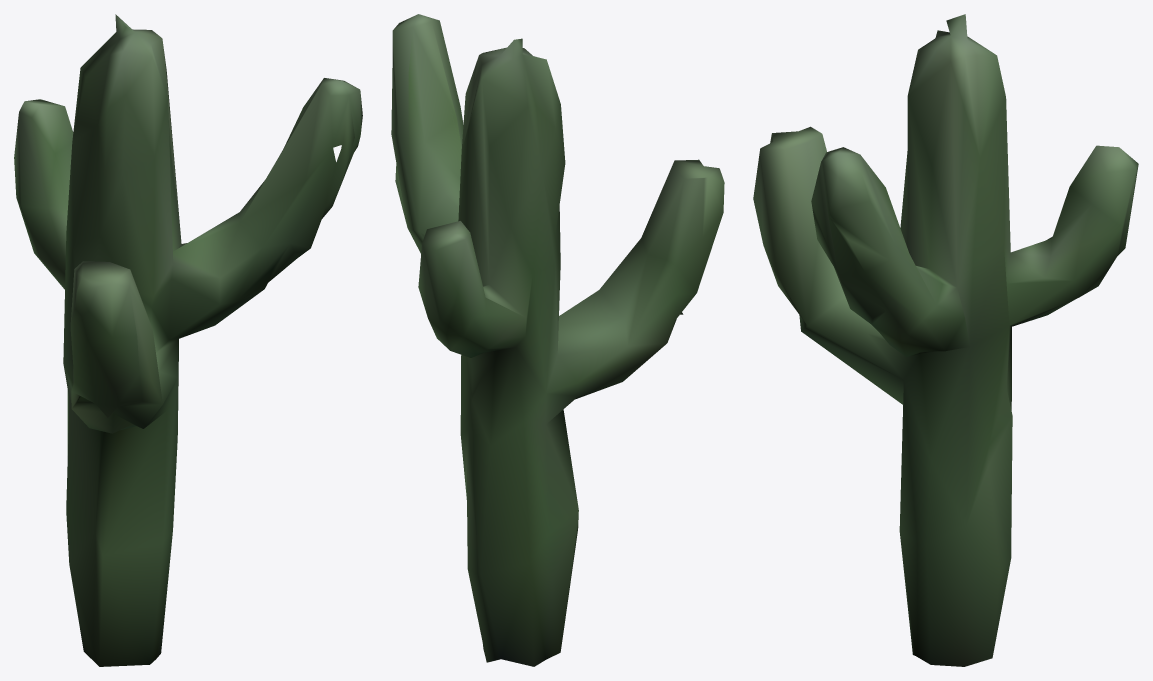
Rendered from cactus_far.glb.
The picture shows the model from 3 angles, left to right: view 1: azimuth 30°, elevation 25°; view 2: azimuth 150°, elevation 25°; view 3: azimuth 270°, elevation 25°; orthographic projection. The views are drawn at different scales.
Visible parts, largest first — view 1: cactus; view 2: cactus; view 3: cactus.
Boxes of the visible parts, bbox=[...] form: cactus: bbox=[14, 14, 362, 666]; cactus: bbox=[391, 14, 724, 666]; cactus: bbox=[753, 14, 1138, 666].
Bounding box in the file's own units: 0.5179 × 1 × 0.5479.
